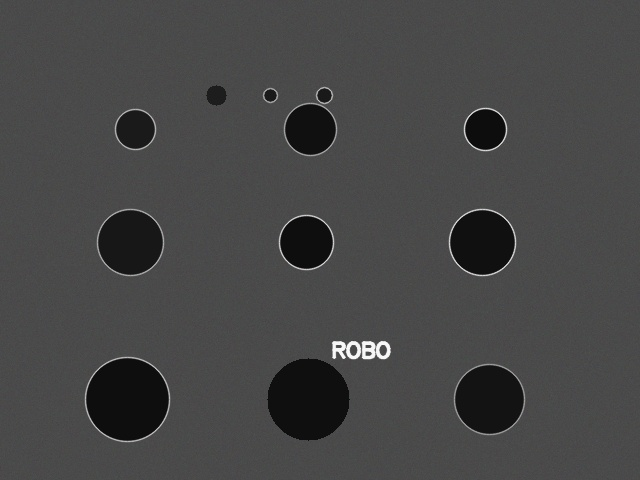hole: (85, 357, 169, 441), (267, 358, 349, 440), (454, 364, 524, 434), (97, 209, 163, 275), (449, 209, 515, 275), (279, 215, 333, 269), (284, 103, 336, 155), (464, 108, 506, 150), (115, 109, 155, 149), (206, 85, 226, 105), (316, 87, 332, 103), (263, 88, 277, 102)
